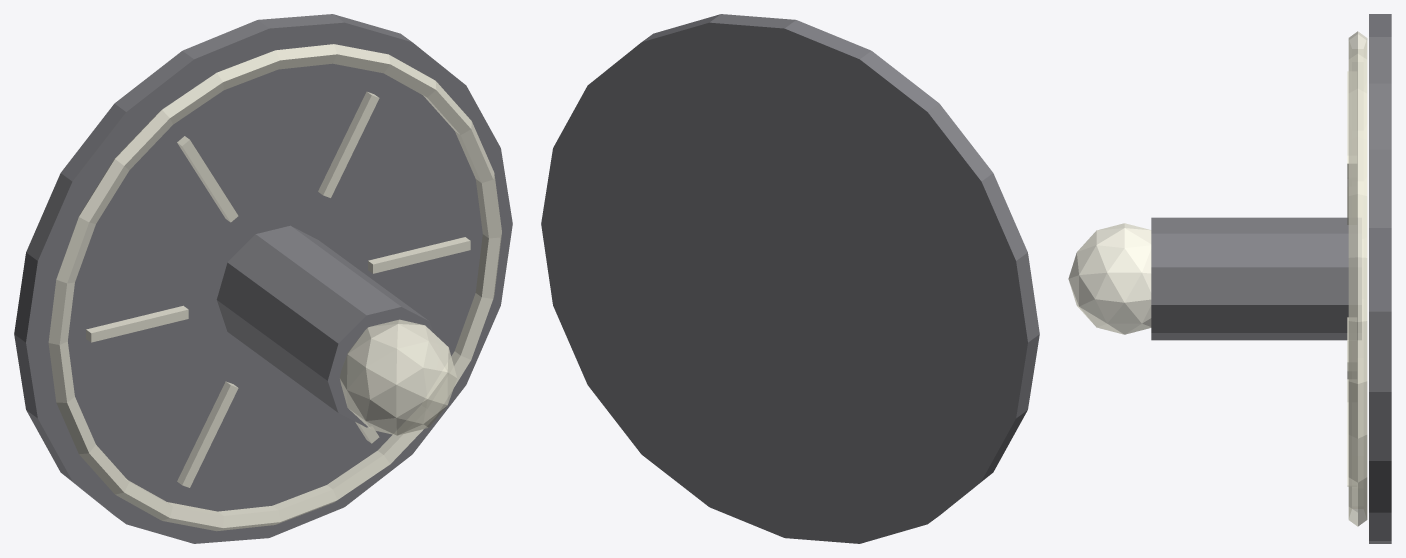
File: evolvarch_data_ring_anchor.glb
3 views of the same model, side by side, from view 1: azimuth 30°, elevation 25°; view 2: azimuth 150°, elevation 25°; view 3: azimuth 270°, elevation 25° (orthographic). The views are drawn at different scales.
Visible parts, largest first — view 1: arena_plate, warning_ring, mechanic_core, activation_orb, floor_rune_4, floor_rune_1, floor_rune_3, floor_rune_0, floor_rune_2; view 2: arena_plate; view 3: mechanic_core, arena_plate, warning_ring, activation_orb, floor_rune_5, floor_rune_2, floor_rune_1, floor_rune_0.
Part boxes in pixels (x1=…): arena_plate: x1=14, y1=14, x2=512, y2=543; warning_ring: x1=48, y1=44, x2=501, y2=531; mechanic_core: x1=216, y1=225, x2=439, y2=427; activation_orb: x1=339, y1=319, x2=457, y2=435; floor_rune_4: x1=177, y1=381, x2=238, y2=487; floor_rune_1: x1=318, y1=91, x2=379, y2=197; floor_rune_3: x1=86, y1=305, x2=188, y2=342; floor_rune_0: x1=368, y1=237, x2=470, y2=273; floor_rune_2: x1=177, y1=136, x2=238, y2=222; arena_plate: x1=541, y1=14, x2=1039, y2=543; mechanic_core: x1=1151, y1=217, x2=1361, y2=340; arena_plate: x1=1369, y1=14, x2=1391, y2=543; warning_ring: x1=1348, y1=31, x2=1367, y2=526; activation_orb: x1=1068, y1=223, x2=1151, y2=334; floor_rune_5: x1=1347, y1=379, x2=1356, y2=486; floor_rune_2: x1=1347, y1=71, x2=1356, y2=155; floor_rune_1: x1=1347, y1=155, x2=1356, y2=224; floor_rune_0: x1=1347, y1=317, x2=1356, y2=371.
Size of the model in its own units: 1.9 by 1.9 by 1.15.
